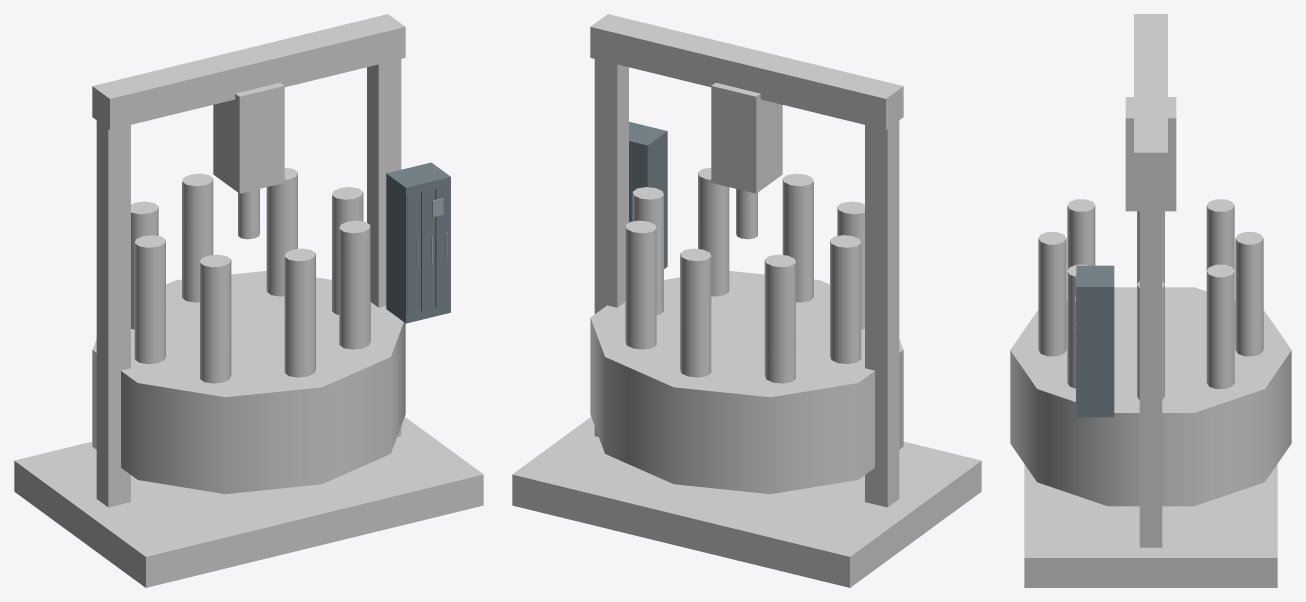
The picture shows the model from 3 angles, left to right: view 1: azimuth 30°, elevation 25°; view 2: azimuth 150°, elevation 25°; view 3: azimuth 270°, elevation 25°; orthographic projection. The views are drawn at different scales.
Visible parts, largest first — view 1: turret_3, base_frame_1, crossbeam_14, column_12, spindle_head_15, column_13, punch_5, punch_6, punch_7, punch_8, punch_10, punch_11 (+8 smaller); view 2: turret_3, base_frame_1, crossbeam_14, column_12, column_13, spindle_head_15, punch_10, punch_11, punch_9, punch_8, punch_6, punch_5 (+6 smaller); view 3: turret_3, base_frame_1, column_13, crossbeam_14, g0.009, punch_10, punch_11, punch_6, spindle_head_15, punch_9, punch_7, punch_5 (+3 smaller).
Boxes of the visible parts, left/top/right/bottom form: turret_3: left=92, top=271, right=405, bottom=494; base_frame_1: left=14, top=417, right=483, bottom=587; crossbeam_14: left=92, top=14, right=405, bottom=129; column_12: left=96, top=120, right=130, bottom=507; spindle_head_15: left=213, top=82, right=284, bottom=193; column_13: left=367, top=59, right=401, bottom=436; punch_5: left=339, top=220, right=370, bottom=349; punch_6: left=284, top=248, right=315, bottom=377; punch_7: left=200, top=254, right=231, bottom=383; punch_8: left=134, top=235, right=165, bottom=363; punch_10: left=182, top=173, right=213, bottom=302; punch_11: left=266, top=167, right=297, bottom=296; turret_3: left=590, top=271, right=903, bottom=494; base_frame_1: left=512, top=417, right=981, bottom=587; crossbeam_14: left=590, top=14, right=903, bottom=129; column_12: left=865, top=120, right=899, bottom=507; column_13: left=594, top=59, right=628, bottom=436; spindle_head_15: left=711, top=82, right=782, bottom=193; punch_10: left=680, top=248, right=711, bottom=377; punch_11: left=625, top=220, right=656, bottom=349; punch_9: left=764, top=254, right=795, bottom=383; punch_8: left=830, top=235, right=861, bottom=363; punch_6: left=782, top=173, right=813, bottom=302; punch_5: left=698, top=167, right=729, bottom=296; turret_3: left=1010, top=287, right=1291, bottom=506; base_frame_1: left=1024, top=464, right=1277, bottom=587; column_13: left=1139, top=182, right=1162, bottom=547; crossbeam_14: left=1134, top=14, right=1167, bottom=182; g0.009: left=1076, top=287, right=1114, bottom=417; punch_10: left=1235, top=232, right=1263, bottom=356; punch_11: left=1206, top=264, right=1234, bottom=388; punch_6: left=1038, top=232, right=1066, bottom=356; spindle_head_15: left=1125, top=97, right=1176, bottom=211; punch_9: left=1206, top=199, right=1234, bottom=270; punch_7: left=1067, top=199, right=1095, bottom=270; punch_5: left=1067, top=264, right=1087, bottom=388.
Size of the model in its own units: 2.4 by 3 by 1.8.
